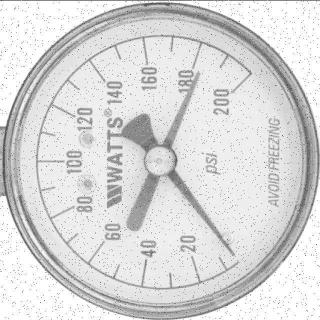gauge: (0, 0, 320, 320), (142, 144, 178, 178), (220, 71, 252, 102), (214, 234, 243, 264), (187, 67, 206, 87), (223, 241, 238, 261)
